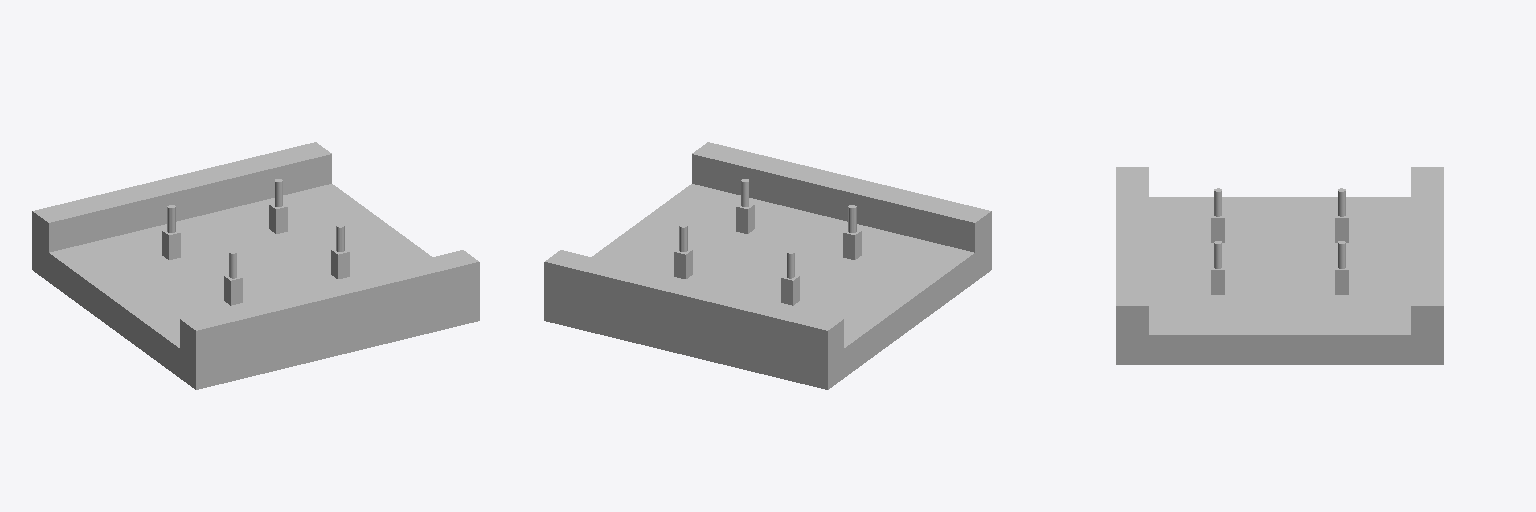
The model's file is mobstacle2.obj.
3 views of the same model, side by side, from view 1: azimuth 30°, elevation 25°; view 2: azimuth 150°, elevation 25°; view 3: azimuth 270°, elevation 25° (orthographic).
Visible parts, largest first — view 1: mobstacle2; view 2: mobstacle2; view 3: mobstacle2.
Part boxes in pixels (bbox=[...]): mobstacle2: bbox=[32, 142, 479, 389]; mobstacle2: bbox=[544, 142, 991, 389]; mobstacle2: bbox=[1116, 167, 1443, 364].
Size of the model in its own units: 10 by 2.68 by 10.